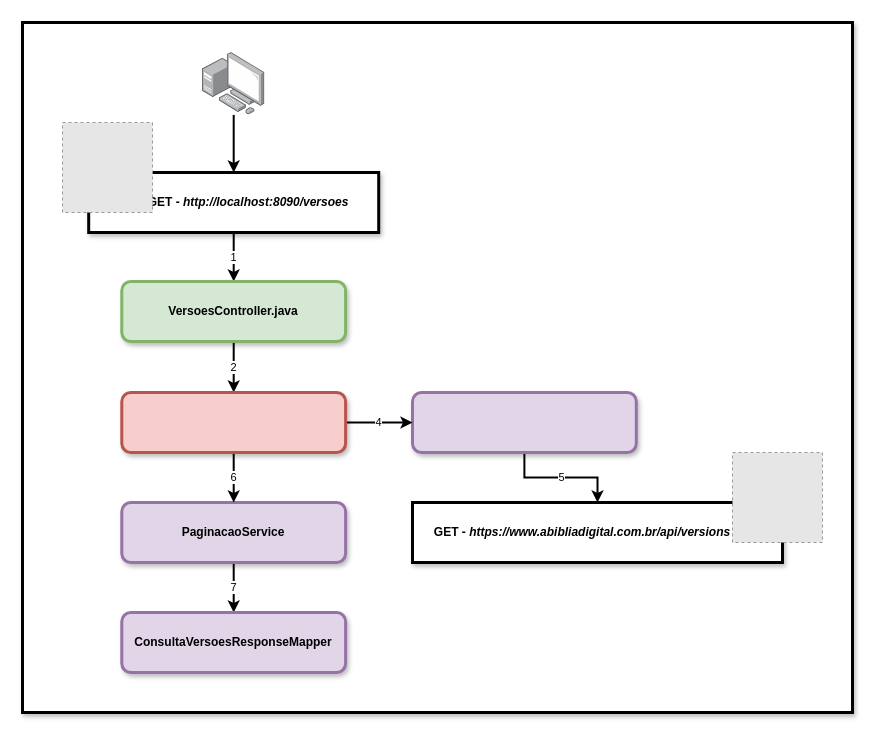
This 877x738 diagram has some shape labels left out. Grey dashed boxes stand in for pictures. The centre of each missing label's shape, as x and y in pixels:
BibliaDigitalRestIntegration: point 524,423
ConsultaVersoesService: point 234,423
